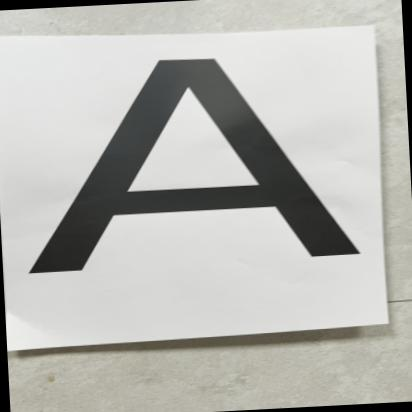seat: (6, 36, 384, 278)
